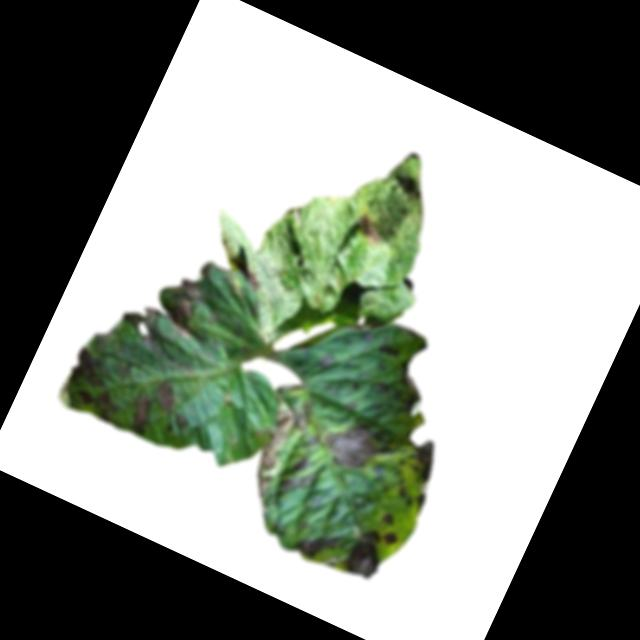Early_blight: (54, 326, 138, 425), (239, 390, 312, 502), (314, 407, 399, 483), (161, 250, 224, 328), (388, 435, 450, 513), (110, 296, 183, 362), (336, 517, 398, 584), (119, 390, 162, 438), (275, 457, 317, 503), (293, 523, 339, 565), (348, 208, 389, 248), (150, 375, 183, 415), (240, 266, 266, 292), (376, 338, 403, 362), (313, 348, 338, 373), (289, 454, 311, 476), (378, 507, 401, 528)
